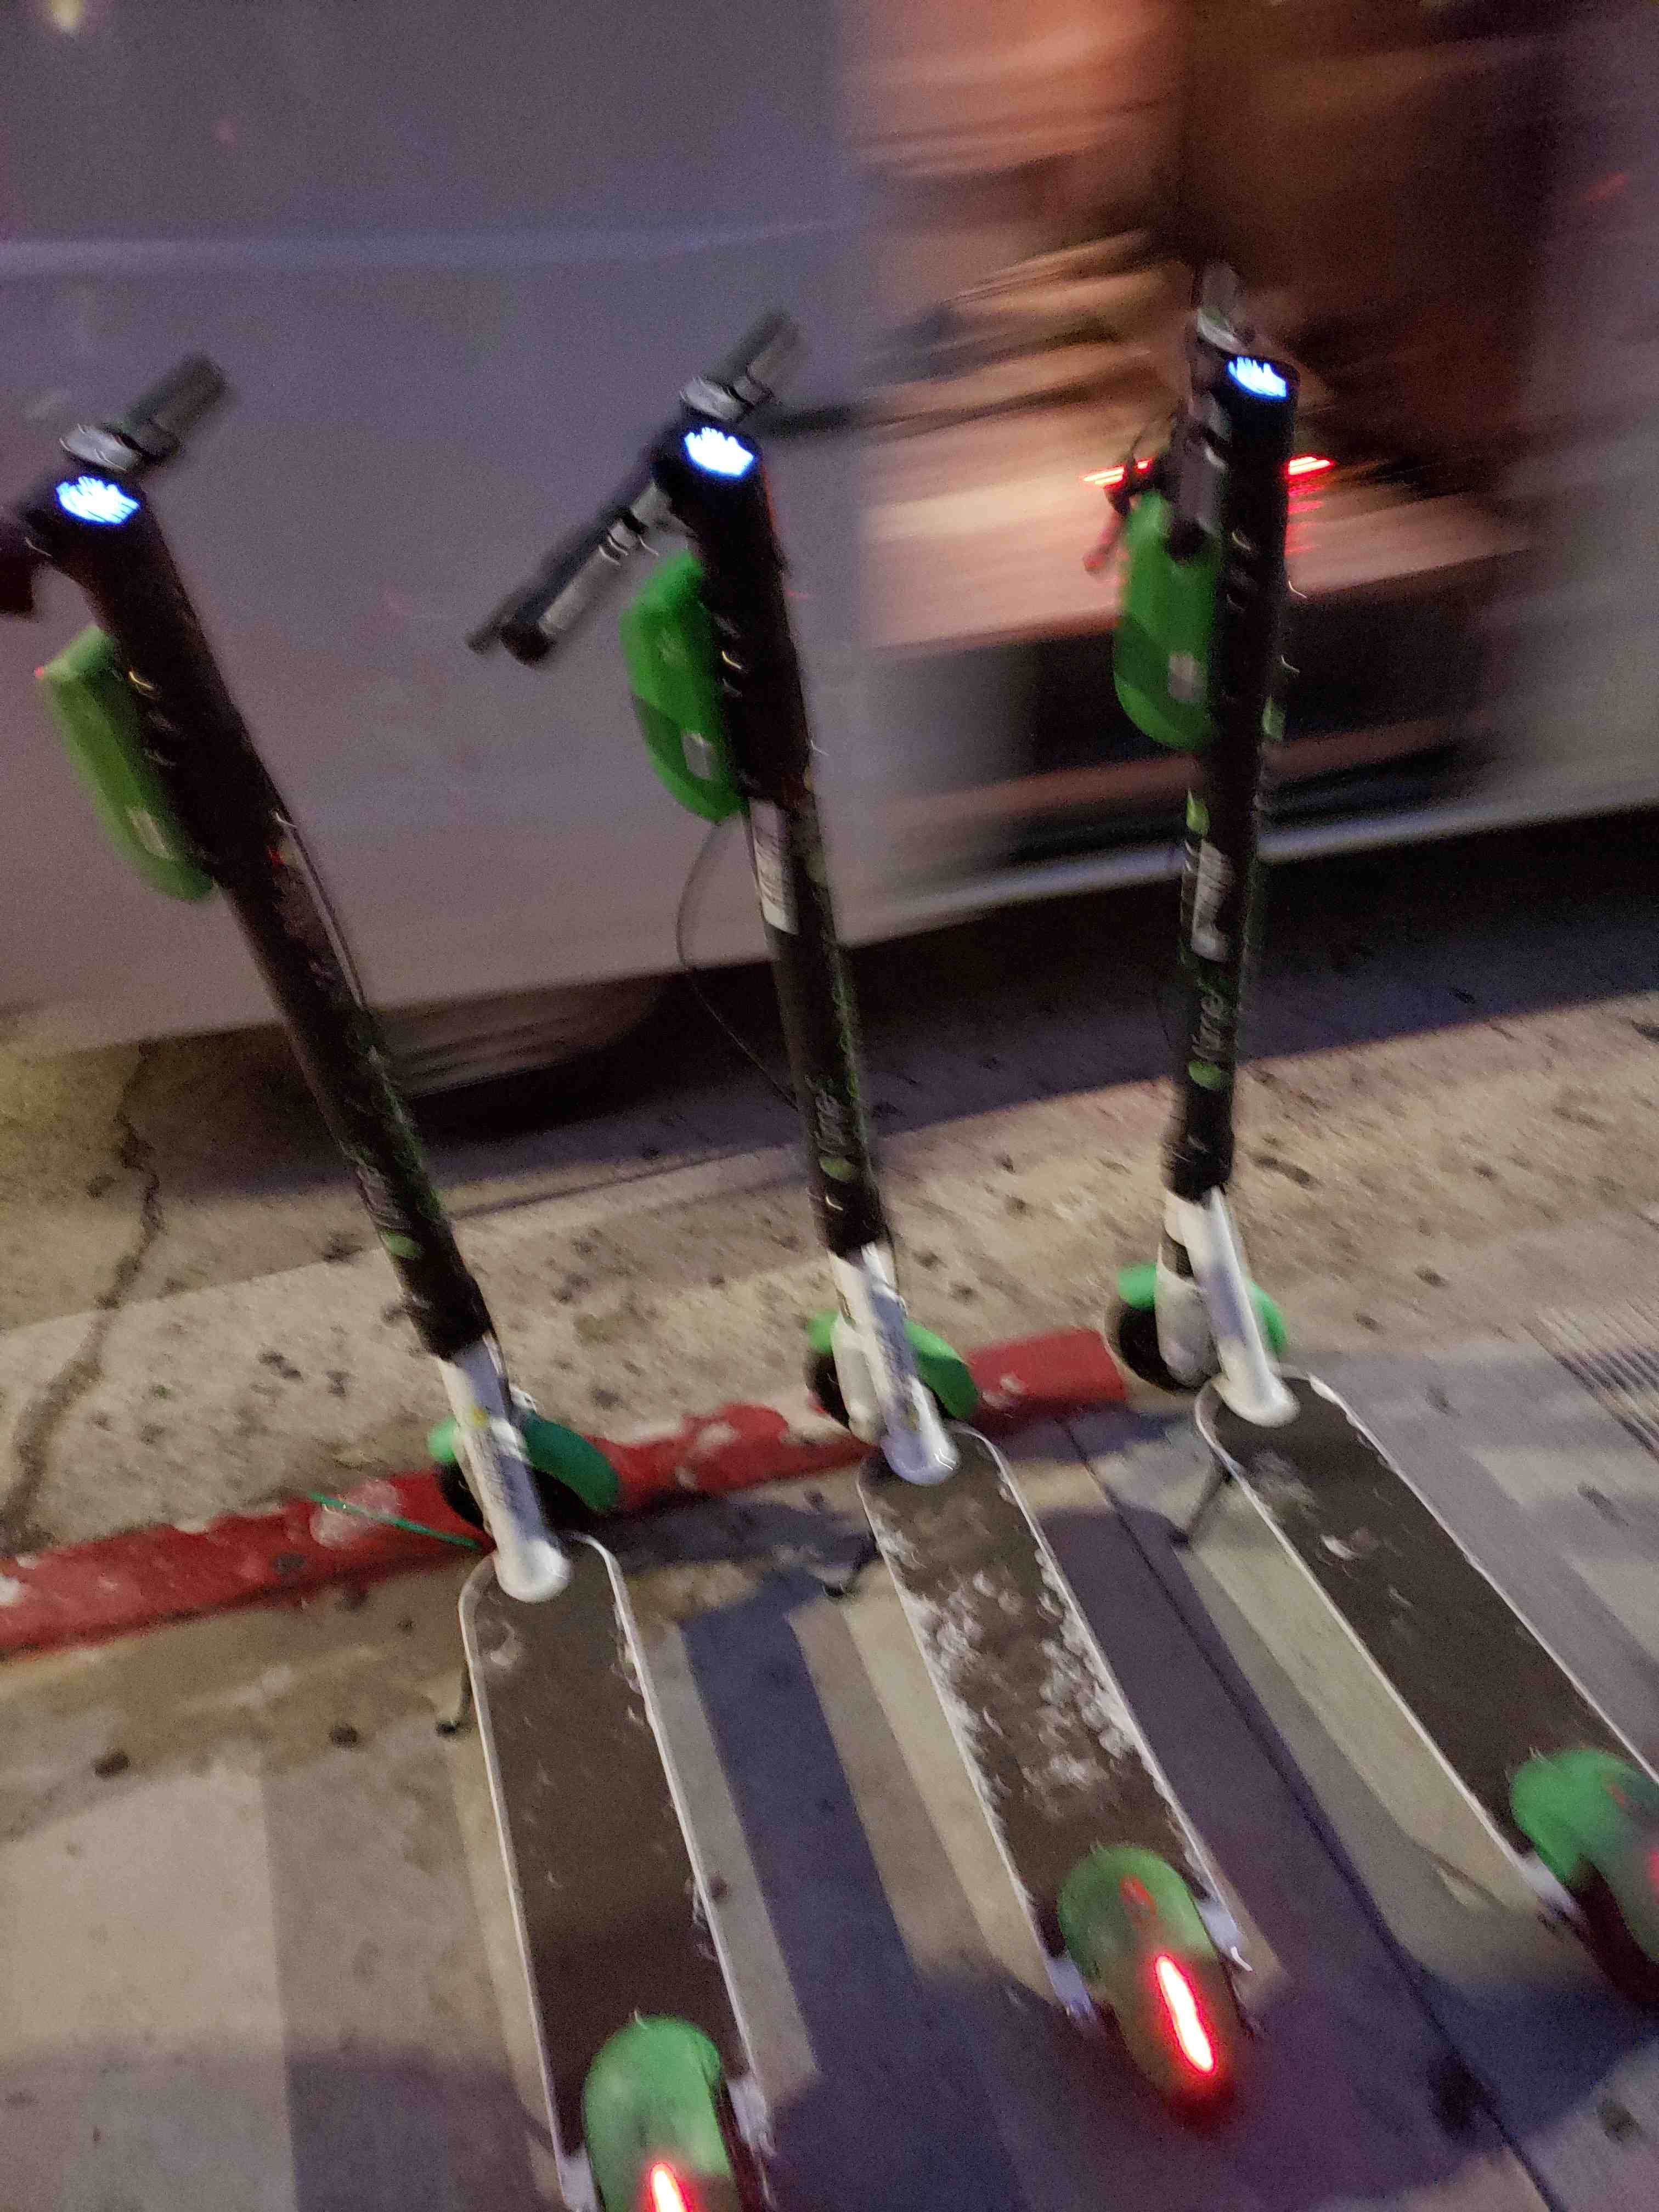too close: (1019, 1209, 1422, 1517), (711, 1263, 1056, 1595), (335, 1360, 699, 1642)
